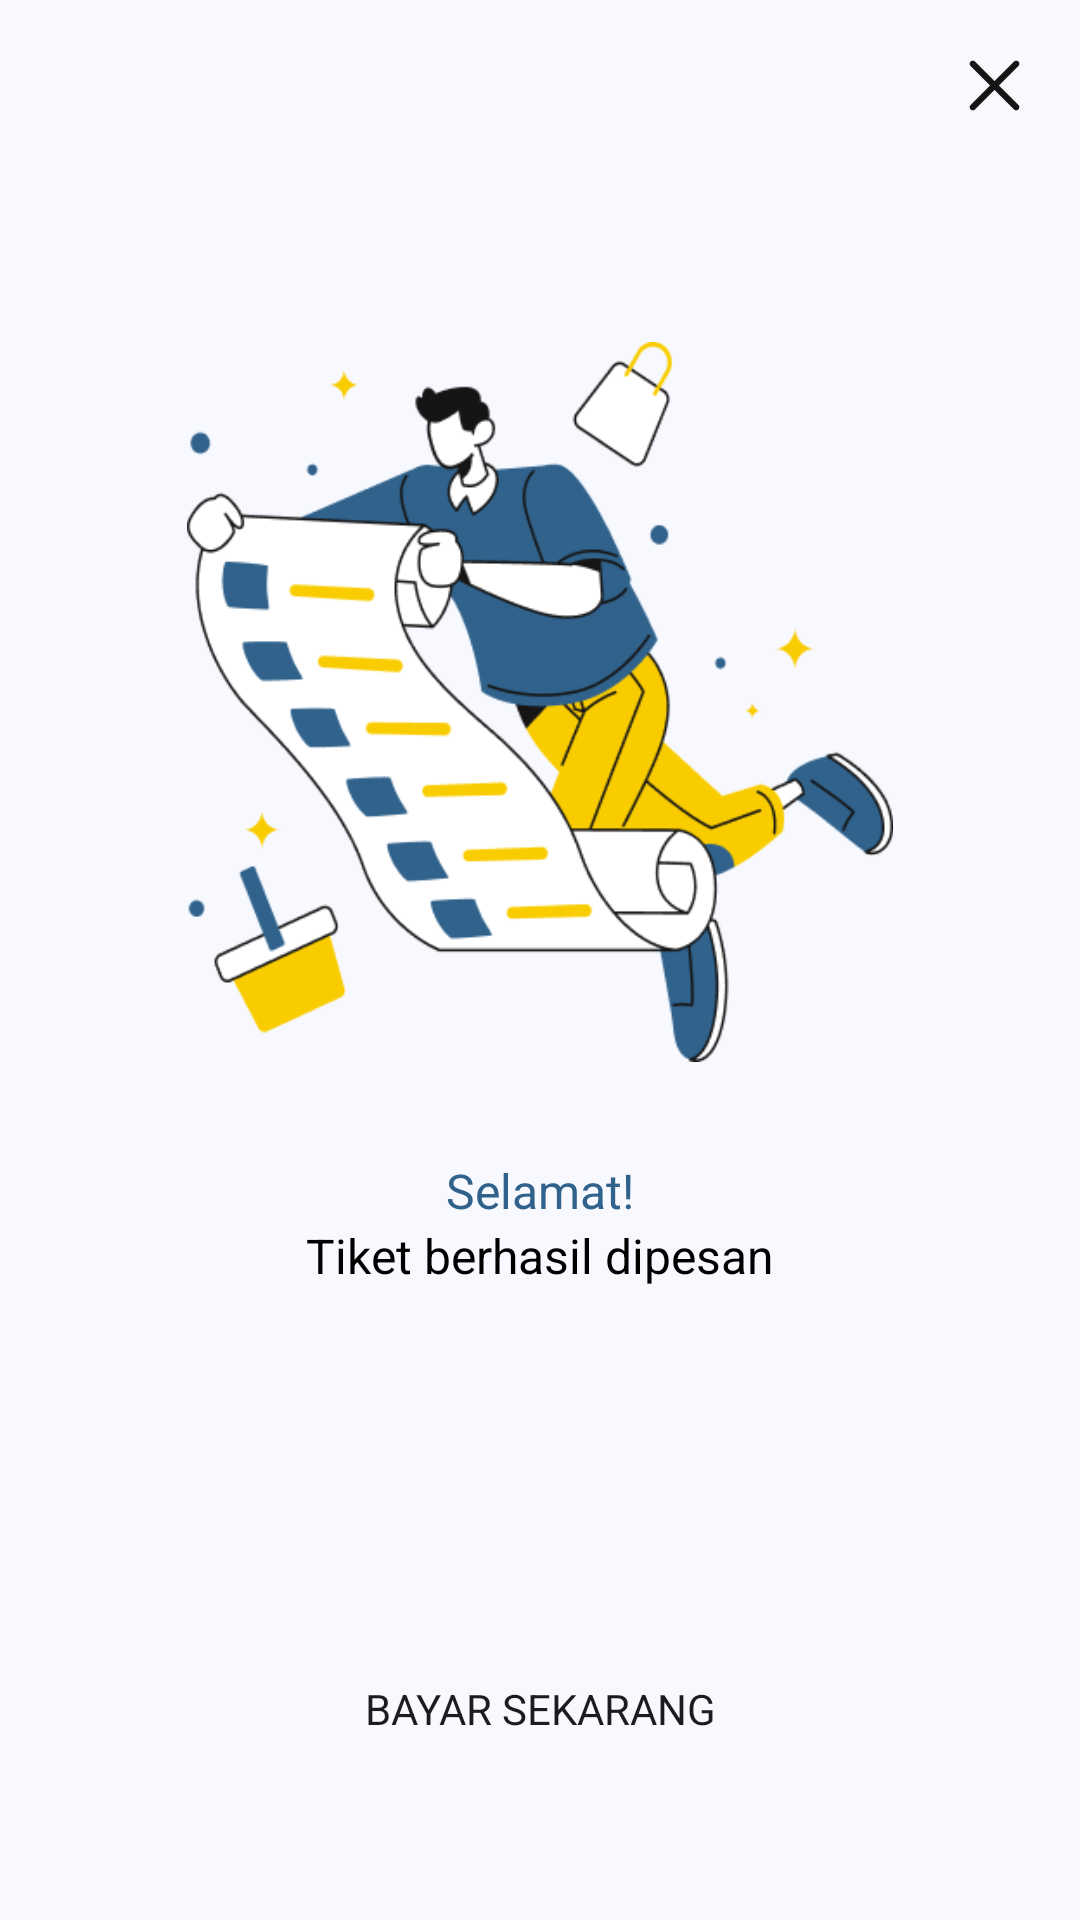

Icons on this 1080w x 1920h Android screen, each with the point to tap as point (x, y):
close: point (994, 85)
